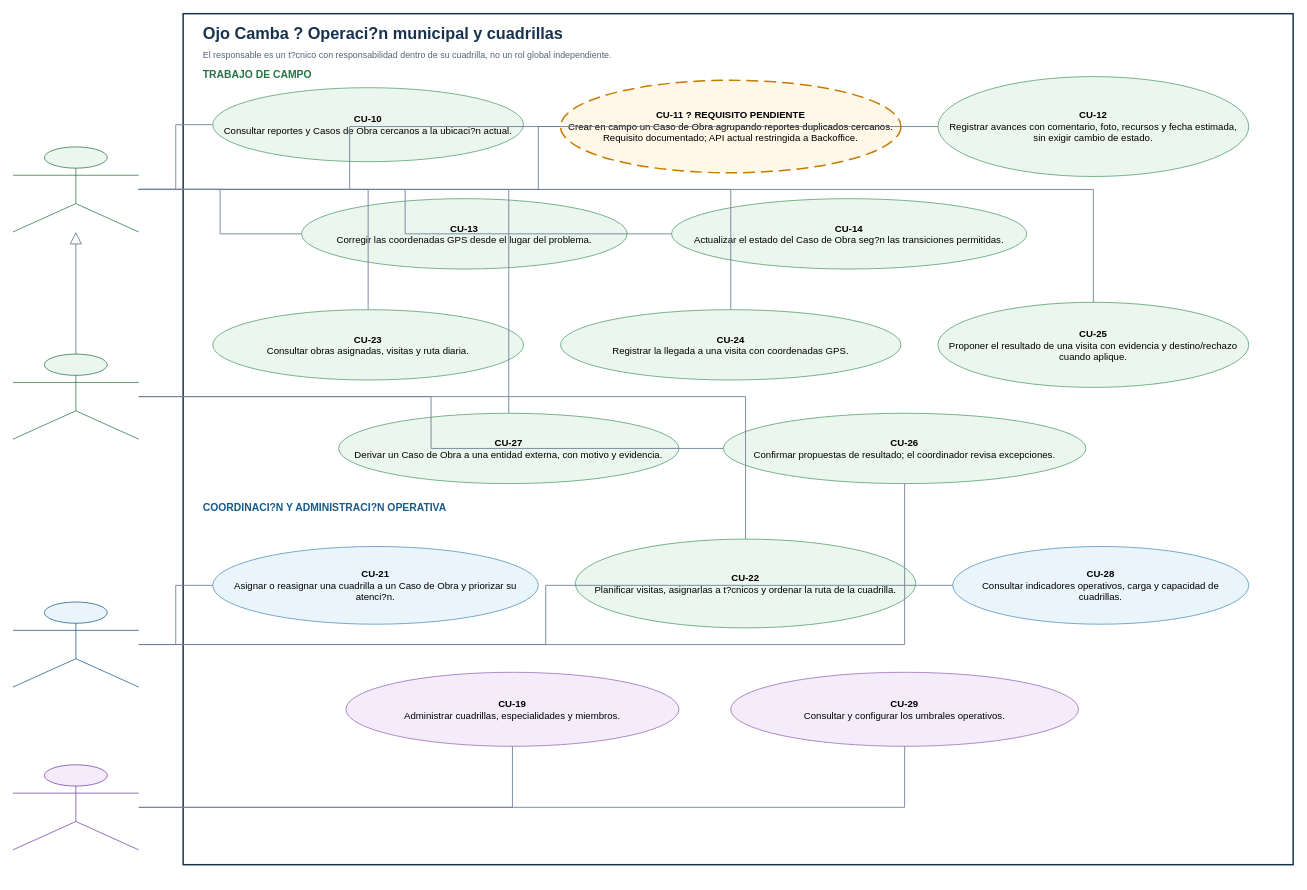
The diagram is 1307 pixels wide and 890 high, and some of its shapes have lost their labels. The shapes that lost their labels are listed below. From the top down, each one's centre as x and y in pixels, then its label:
point (75, 189): T?cnico en campo
point (75, 396): Responsable de cuadrilla
point (75, 644): Coordinador operativo
point (75, 807): Encargado de TI
